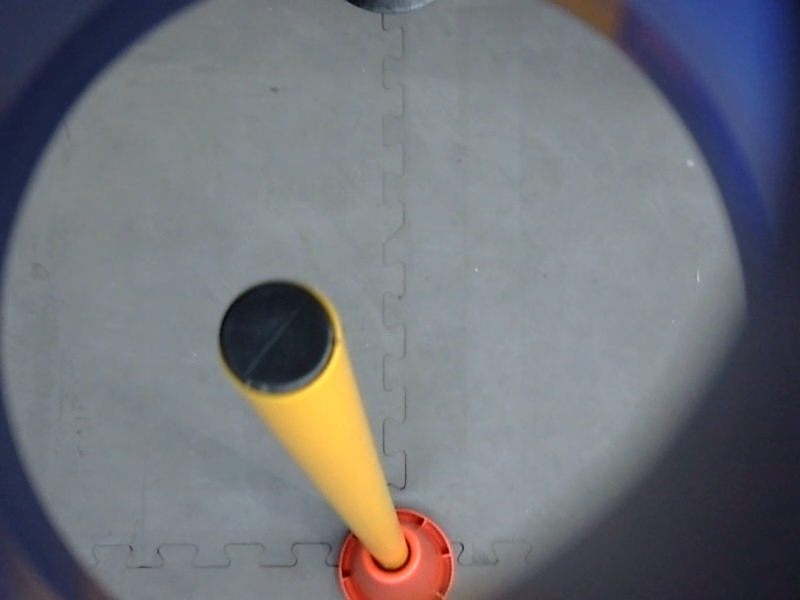tip: (209, 272, 348, 408)
